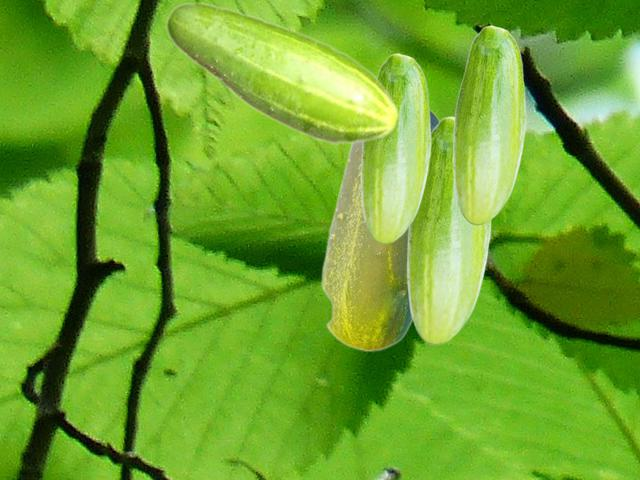cucumber: (165, 1, 399, 145), (320, 108, 439, 351), (406, 116, 490, 344), (452, 25, 525, 224), (360, 53, 430, 243)
